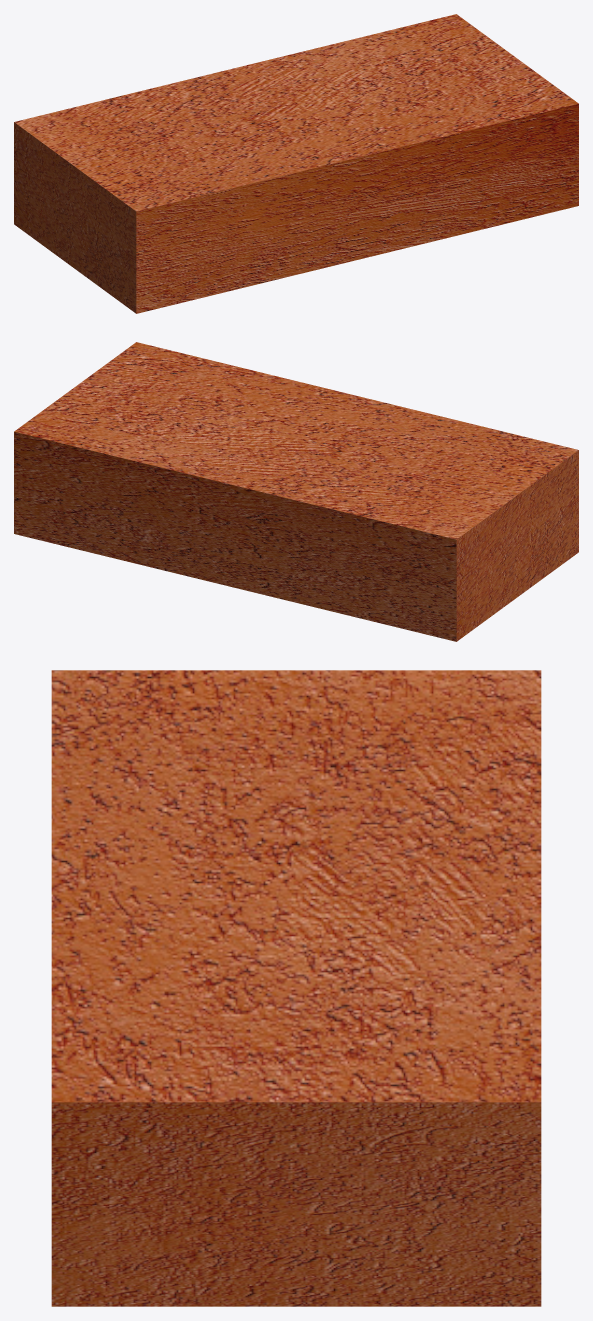
File: brick.dae
The picture shows the model from 3 angles, top to bottom: view 1: azimuth 30°, elevation 25°; view 2: azimuth 150°, elevation 25°; view 3: azimuth 270°, elevation 25°; orthographic projection. The views are drawn at different scales.
Visible parts, largest first — view 1: Cube; view 2: Cube; view 3: Cube.
Boxes of the visible parts, x1,y1,x2,y2 form: Cube: (14,14,578,313); Cube: (14,342,578,641); Cube: (51,670,541,1306).
Size of the model in its own units: 240 by 115 by 53.
Materials: 1 (1 with a texture image).
